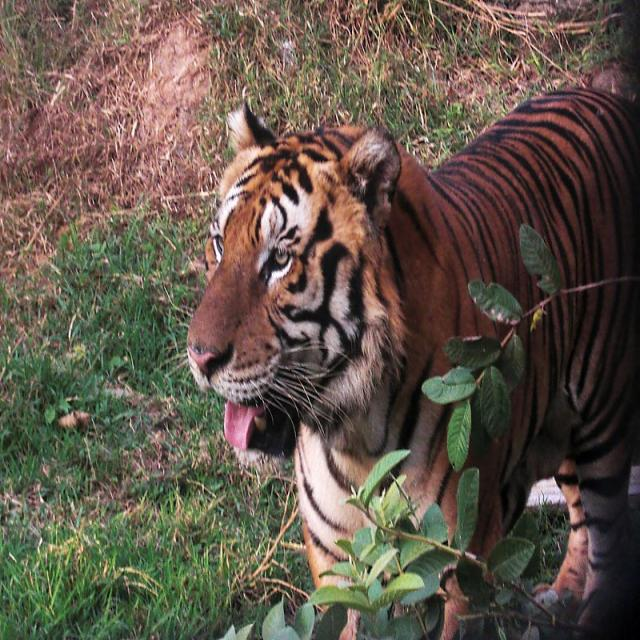Tiger: (180, 65, 631, 606)
